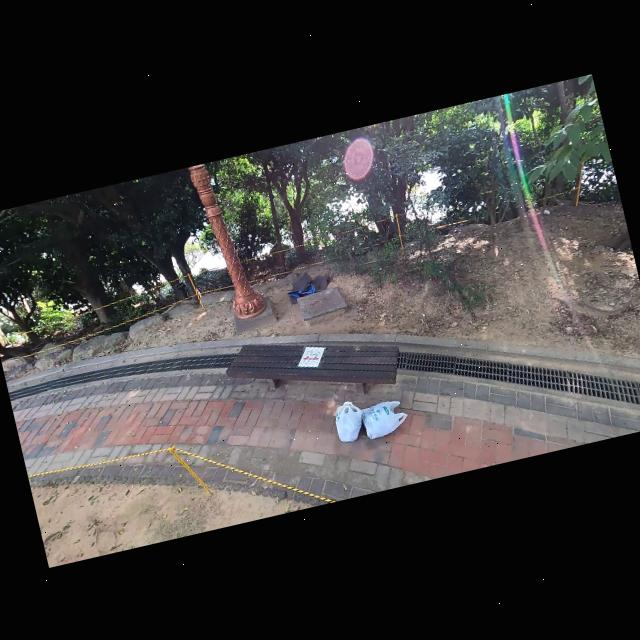trash: (353, 394, 412, 442), (326, 396, 369, 448)
